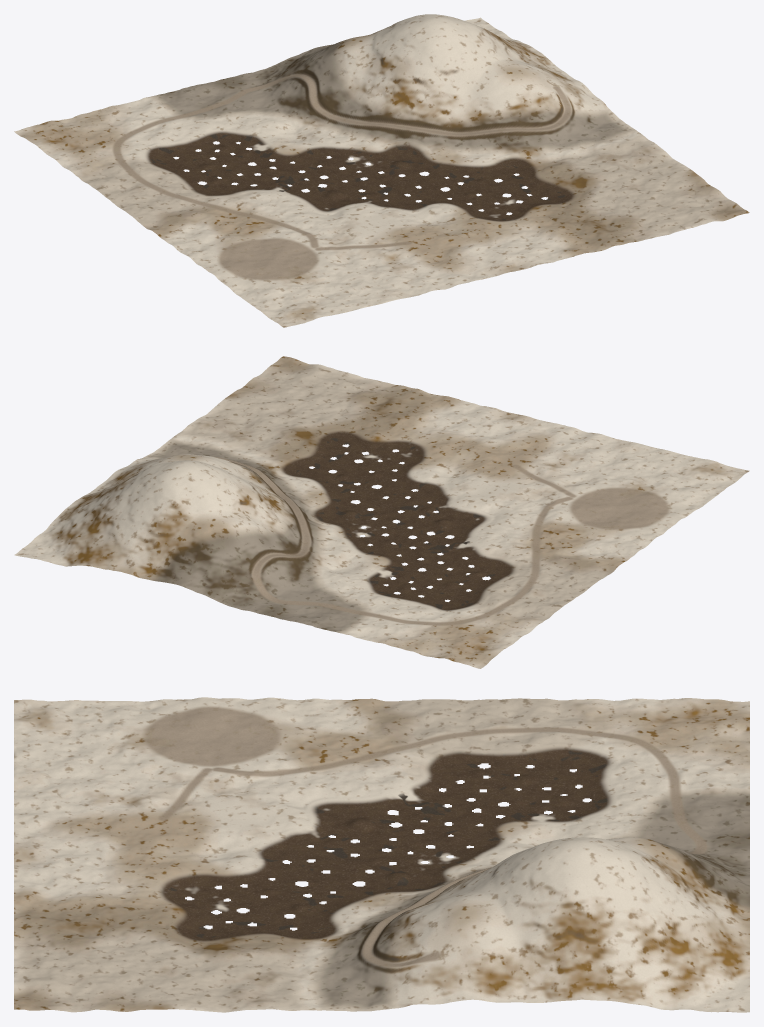
File: Terreno.glb
3 views of the same model, one above another, from view 1: azimuth 30°, elevation 25°; view 2: azimuth 150°, elevation 25°; view 3: azimuth 270°, elevation 25° (orthographic). The views are drawn at different scales.
Parts seen in each view (by area): view 1: Terreno; view 2: Terreno; view 3: Terreno.
Boxes of the visible parts, x1,y1,x2,y2 form: Terreno: (14, 14, 749, 327); Terreno: (14, 356, 749, 668); Terreno: (14, 697, 749, 1012).
Size of the model in its own units: 346 by 51.6 by 346.
Materials: 1 (1 with a texture image).
